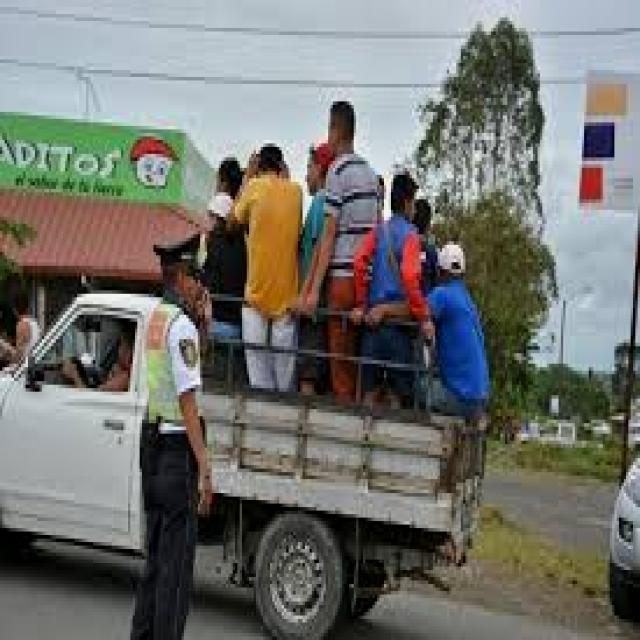CMT: (7, 294, 482, 640)
